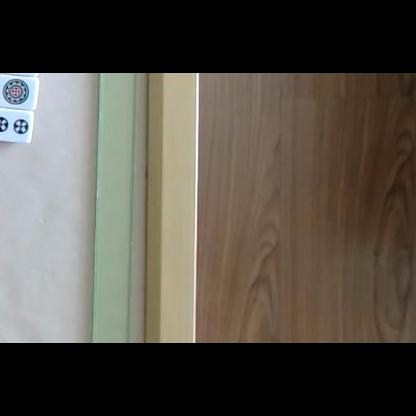1p: (2, 79, 29, 106)
2p: (0, 116, 29, 135)
